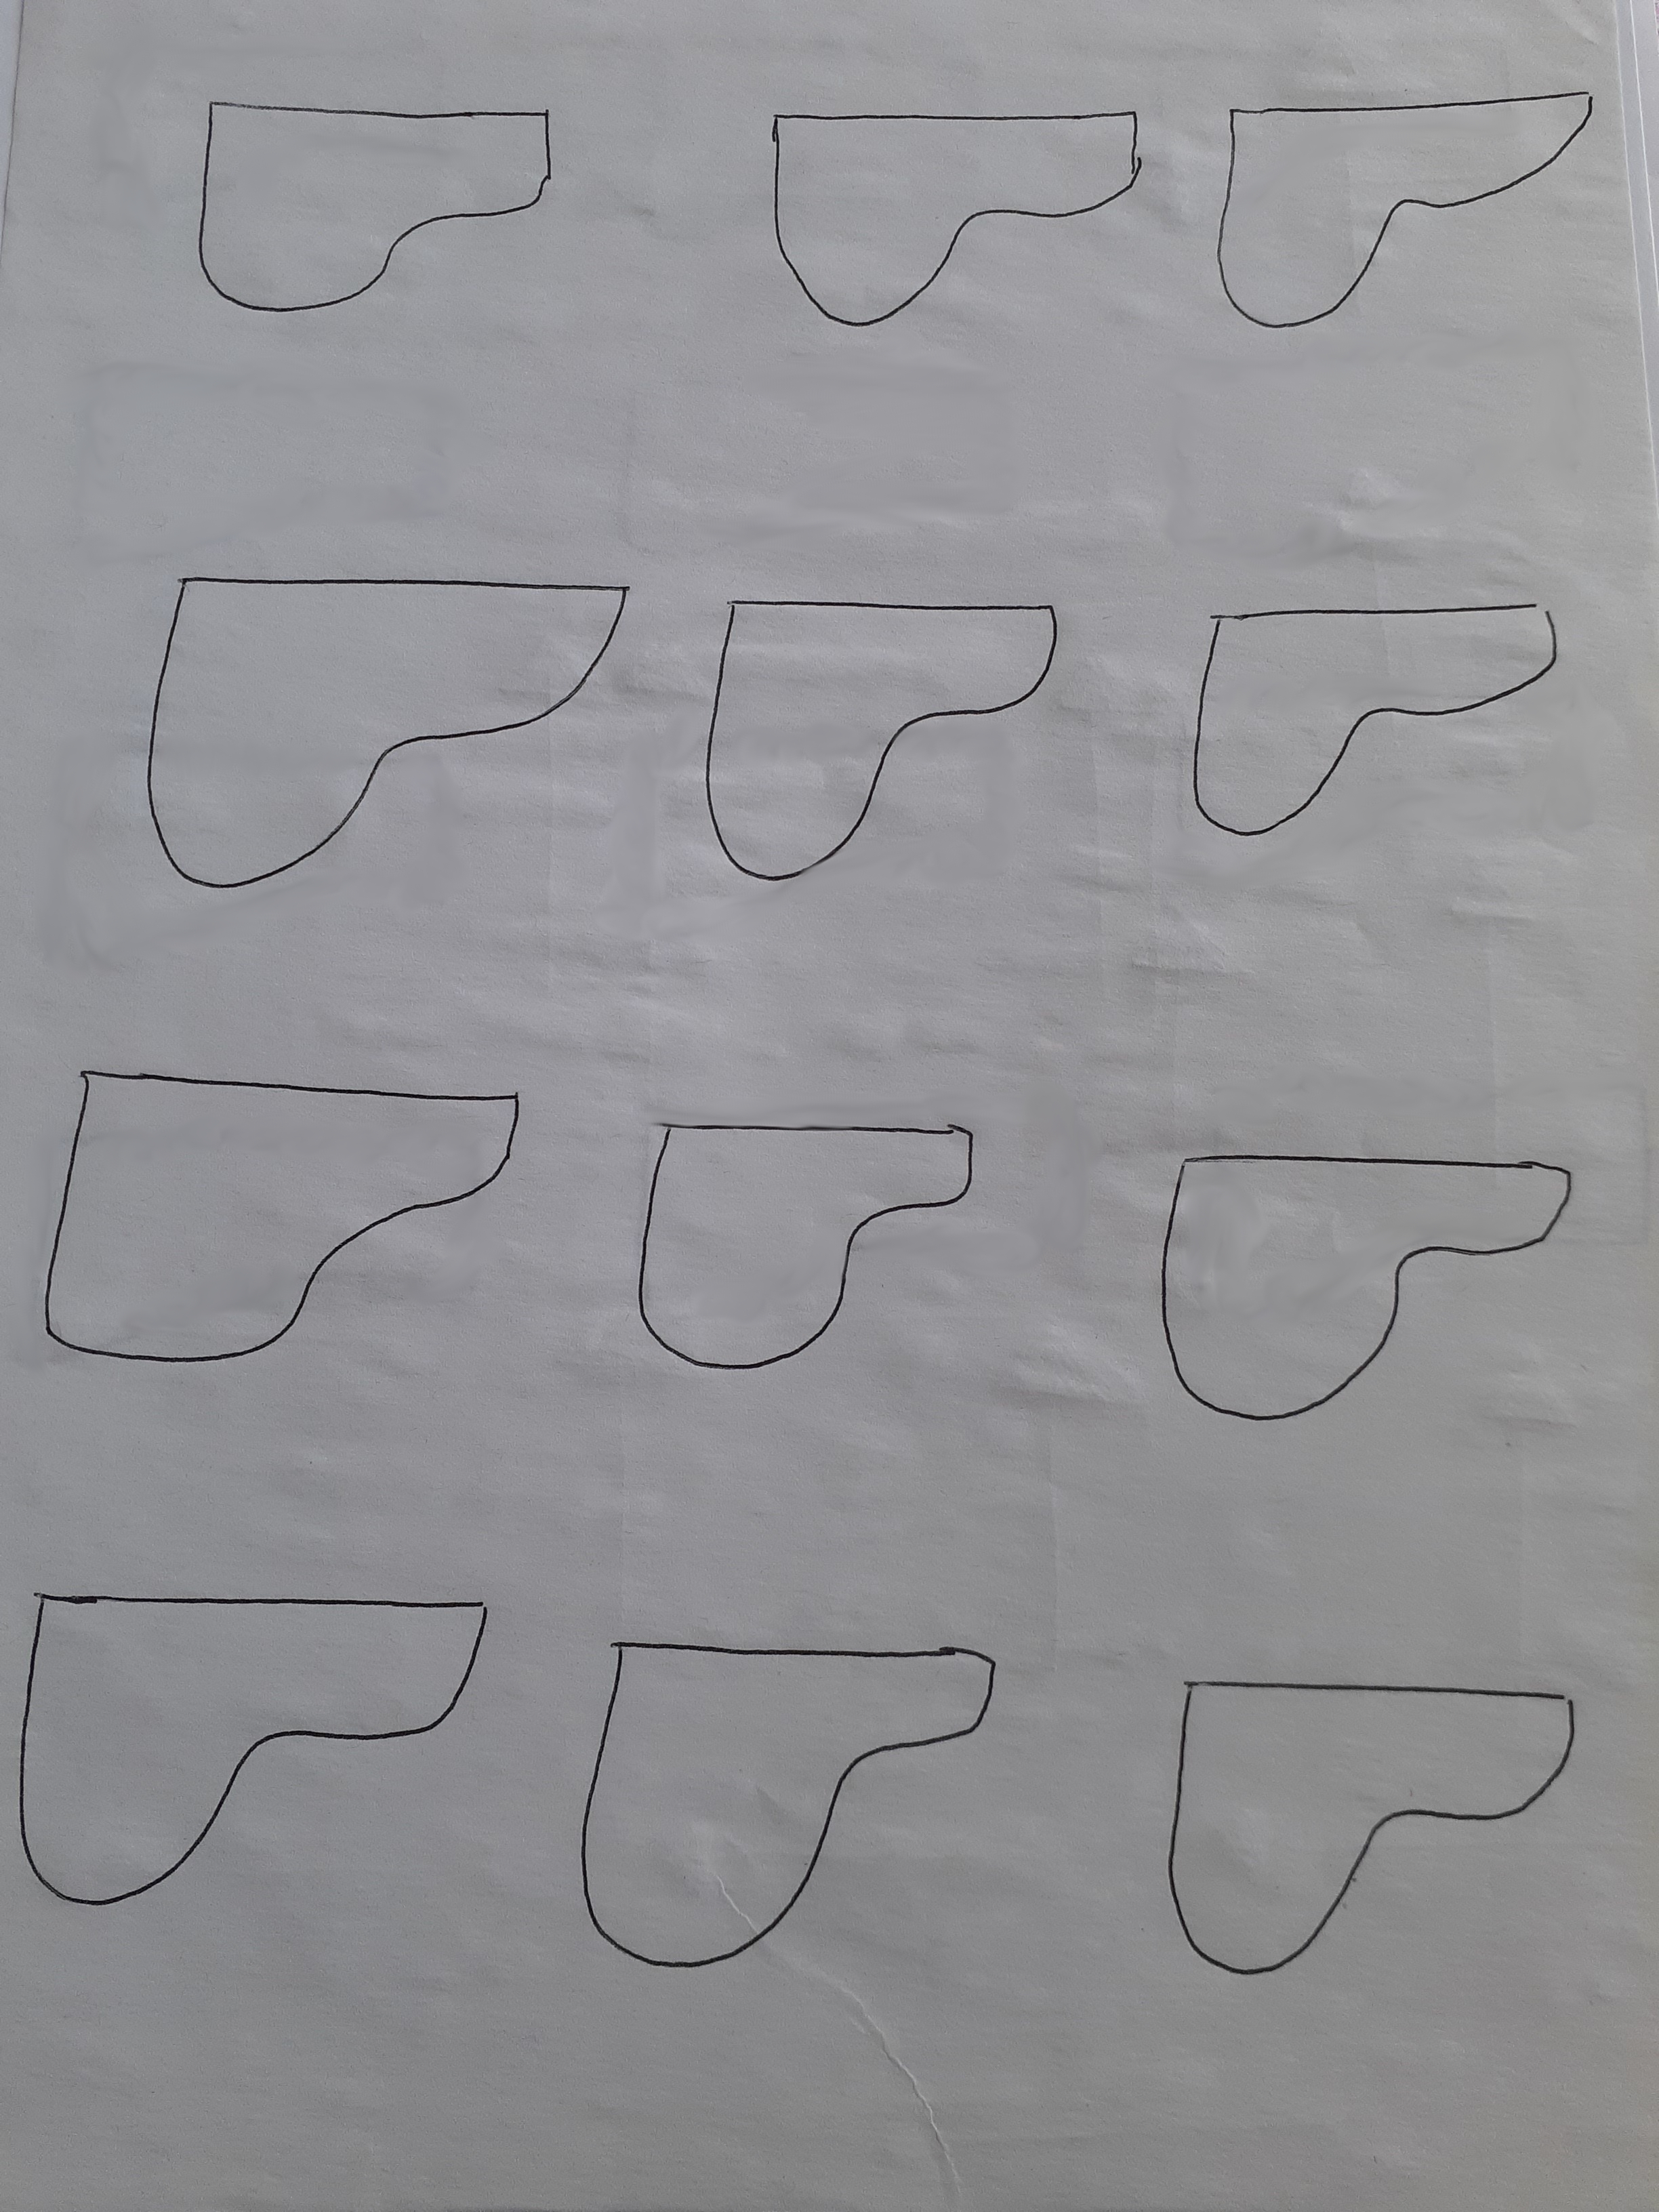print: (122, 540, 645, 927), (559, 1583, 1028, 2013), (24, 1031, 537, 1404), (14, 1554, 516, 1926), (1140, 1611, 1586, 2013), (1129, 1085, 1589, 1435), (1208, 31, 1610, 364), (720, 45, 1162, 340), (695, 561, 1082, 895), (1183, 561, 1579, 866), (624, 1075, 1007, 1385), (174, 80, 584, 357)
